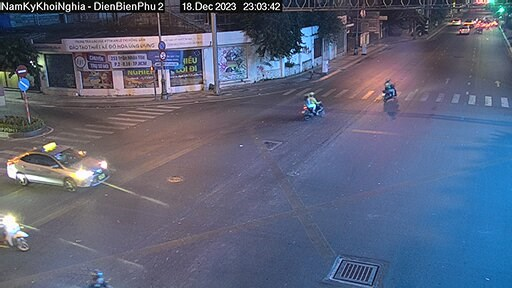car: (9, 146, 114, 190)
motorbike: (1, 211, 30, 248), (301, 91, 326, 117), (380, 81, 403, 100)
